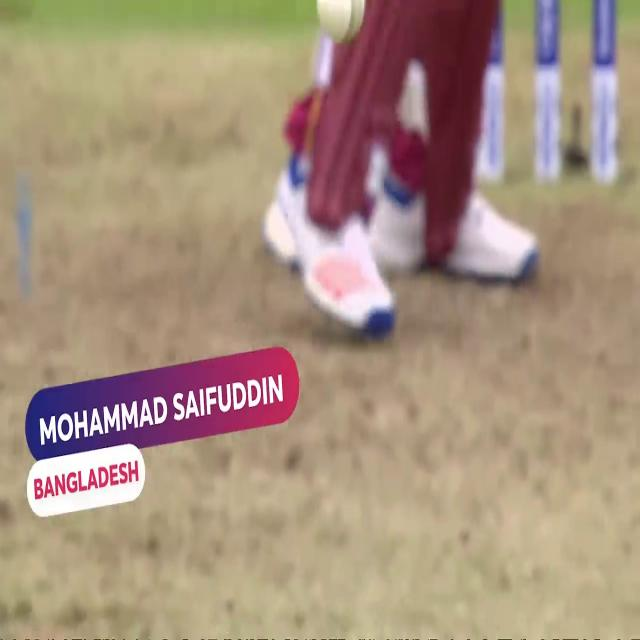ball: (315, 1, 365, 44)
